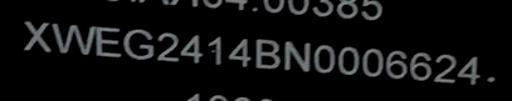letter: (50, 20, 96, 53), (280, 34, 312, 75), (18, 19, 54, 54), (122, 24, 156, 61), (252, 33, 282, 74), (226, 32, 254, 71), (94, 24, 124, 59), (154, 27, 182, 64), (456, 52, 484, 88), (180, 29, 206, 66), (408, 47, 434, 84), (204, 30, 228, 69), (359, 44, 385, 79), (384, 47, 410, 82), (336, 41, 360, 78), (313, 37, 335, 76), (434, 50, 456, 85)
